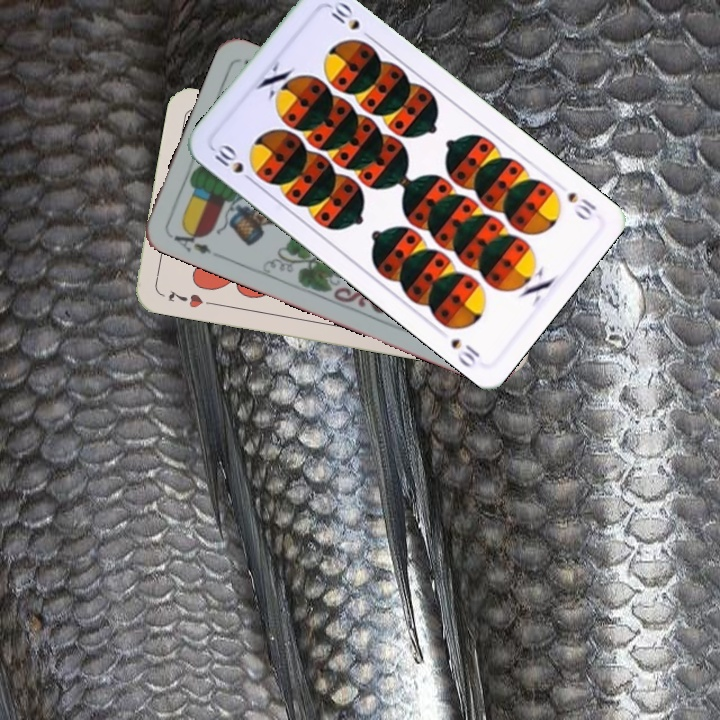EA: (167, 223, 216, 258)
H7: (164, 286, 217, 311)
S10: (208, 139, 258, 187), (563, 188, 599, 223)
